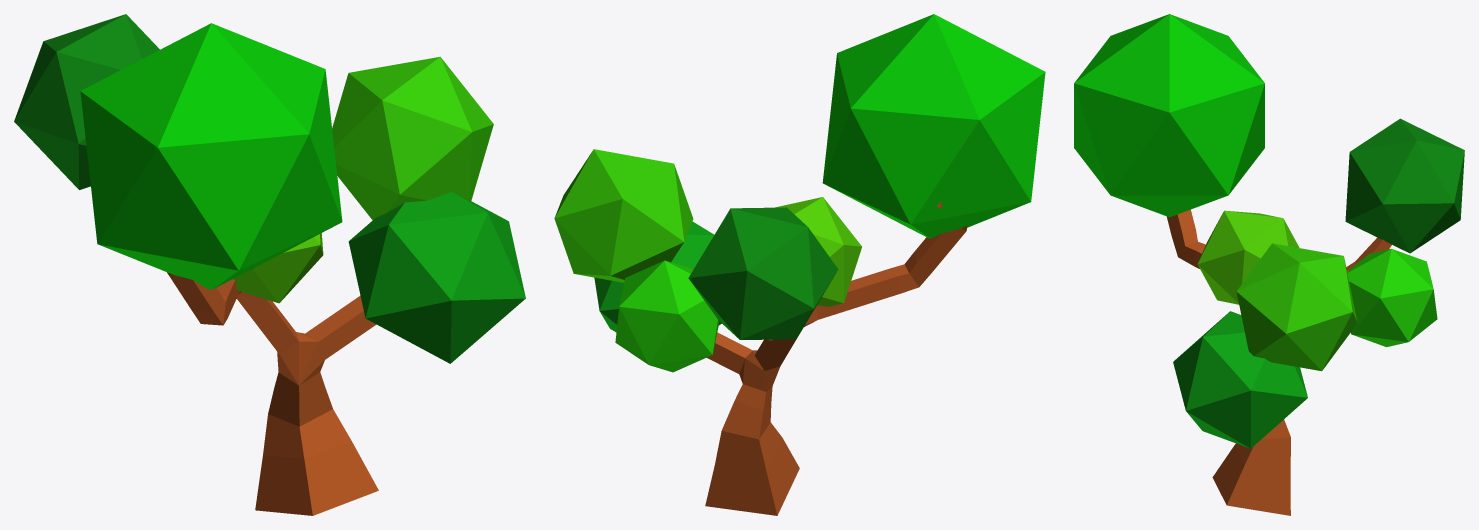
The model's file is tree5.glb.
3 views of the same model, side by side, from view 1: azimuth 30°, elevation 25°; view 2: azimuth 150°, elevation 25°; view 3: azimuth 270°, elevation 25° (orthographic). The views are drawn at different scales.
Parts seen in each view (by area): view 1: Icosphere.001, Icosphere.004, Icosphere.003, Cube, Icosphere.002, Icosphere.005; view 2: Icosphere.001, Cube, Icosphere.002, Icosphere.003, Icosphere, Icosphere.005, Icosphere.004; view 3: Icosphere.001, Icosphere.002, Icosphere.003, Icosphere.004, Icosphere, Cube, Icosphere.005.
Part boxes in pixels (bbox=[...]): Icosphere.001: bbox=[80, 23, 342, 289]; Icosphere.004: bbox=[348, 192, 525, 363]; Icosphere.003: bbox=[332, 56, 493, 220]; Cube: bbox=[167, 272, 378, 515]; Icosphere.002: bbox=[14, 14, 159, 189]; Icosphere.005: bbox=[233, 233, 323, 303]; Icosphere.001: bbox=[822, 14, 1045, 238]; Cube: bbox=[692, 201, 967, 515]; Icosphere.002: bbox=[688, 207, 838, 339]; Icosphere.003: bbox=[554, 149, 693, 282]; Icosphere: bbox=[615, 260, 718, 372]; Icosphere.005: bbox=[775, 197, 861, 306]; Icosphere.004: bbox=[594, 221, 721, 332]; Icosphere.001: bbox=[1074, 14, 1264, 217]; Icosphere.002: bbox=[1345, 118, 1464, 253]; Icosphere.003: bbox=[1236, 243, 1357, 371]; Icosphere.004: bbox=[1173, 311, 1307, 448]; Icosphere: bbox=[1347, 248, 1437, 347]; Cube: bbox=[1166, 209, 1391, 515]; Icosphere.005: bbox=[1197, 210, 1299, 304].
Size of the model in its own units: 8.65 by 9.89 by 8.12.
